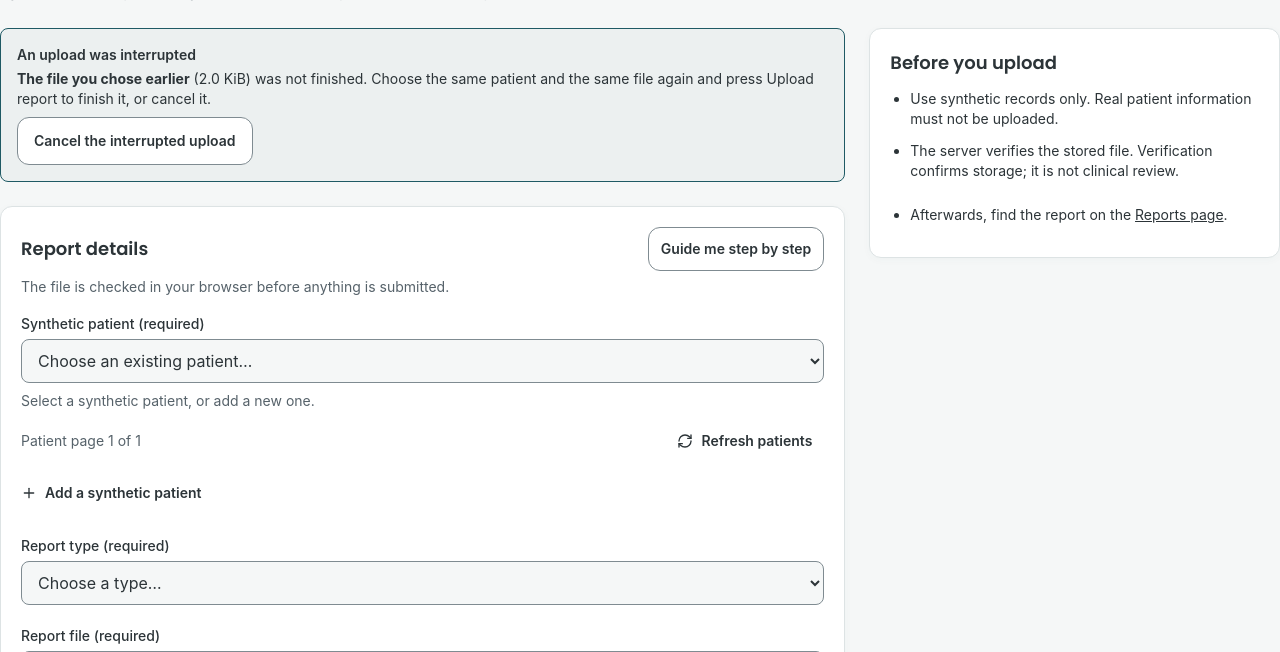
Test case: UploadReportPage › cancels the interrupted upload through the server, and only then lets go of it
This screenshot has width=1280, height=652.
Click the button "Cancel the interrupted upload".
click(135, 141)  # box x1=17 y1=117 x2=252 y2=165
(page scrolled)
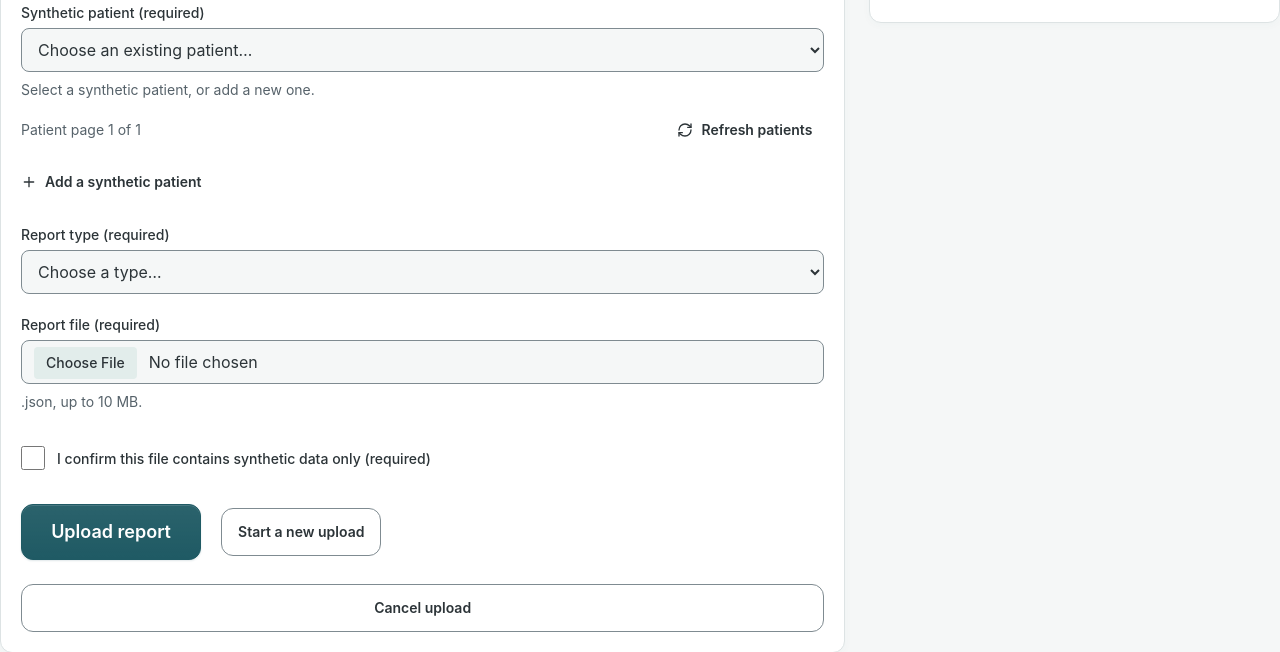
Click the button "Cancel upload".
click(423, 608)  # box x1=21 y1=584 x2=824 y2=632
(page scrolled)
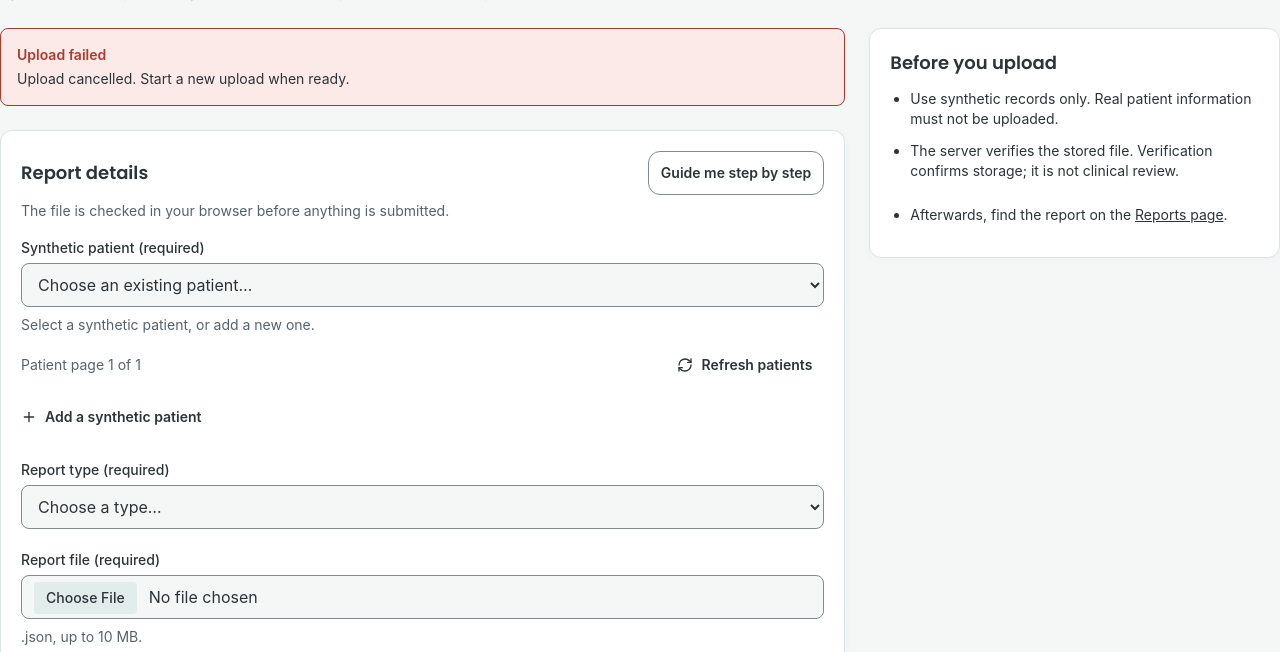
Result: the text "Upload cancelled. Start a new upload when ready." is shown at x1=17 y1=70 x2=350 y2=87
